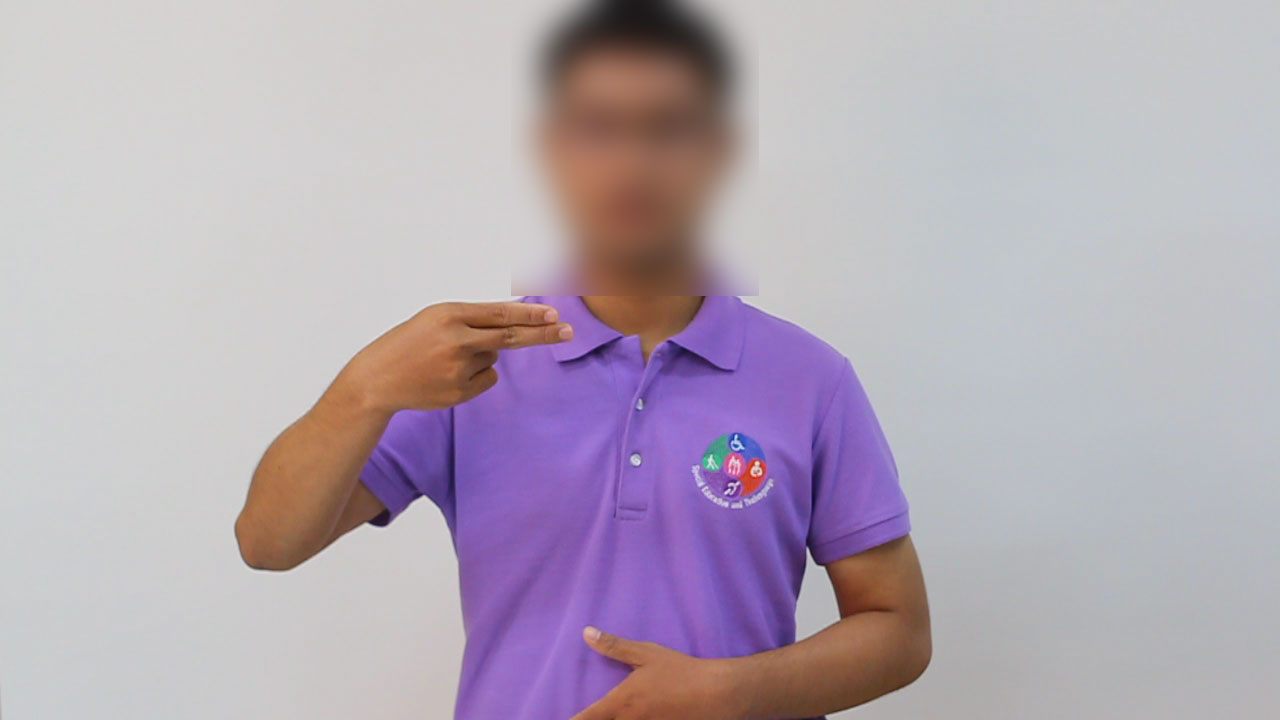hor: (347, 294, 585, 416)
